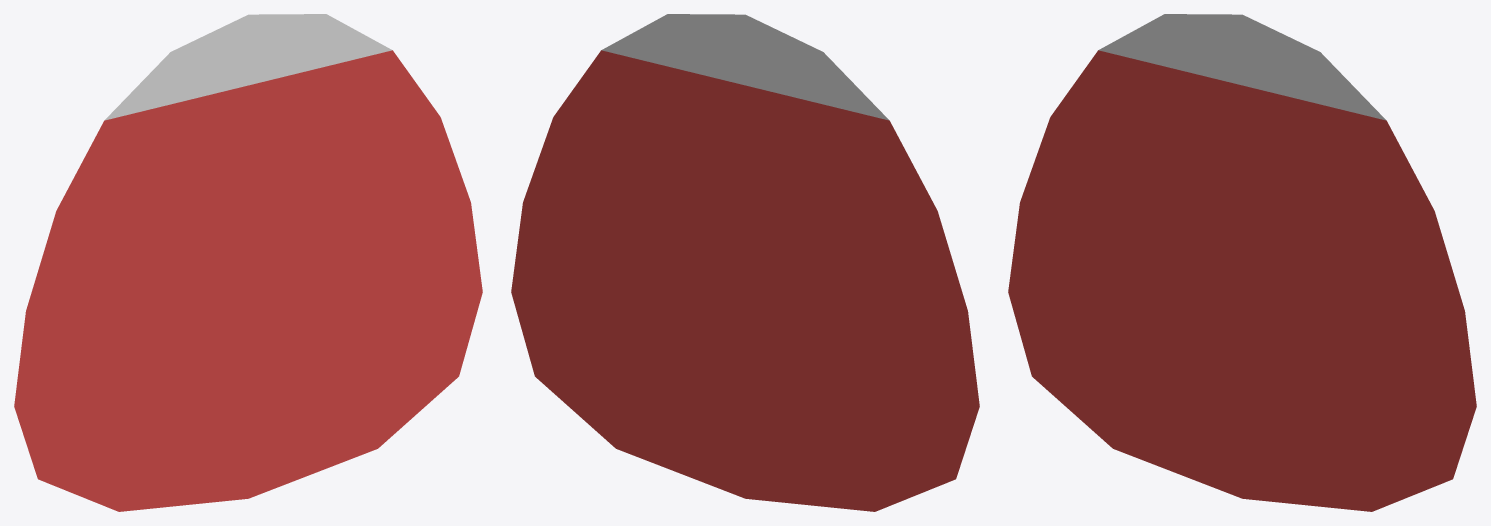
File: mouth_1.fbx
3 renders of one model, left to right at view 1: azimuth 30°, elevation 25°; view 2: azimuth 150°, elevation 25°; view 3: azimuth 330°, elevation 25°, orthographic.
Visible parts, largest first — view 1: mouth_1; view 2: mouth_1; view 3: mouth_1.
Boxes of the visible parts, x1=… form: mouth_1: x1=14, y1=14, x2=482, y2=511; mouth_1: x1=511, y1=14, x2=979, y2=511; mouth_1: x1=1008, y1=14, x2=1476, y2=511.
Bounding box in the file's own units: 0.1688 × 0.1667 × 1.15e-07.
